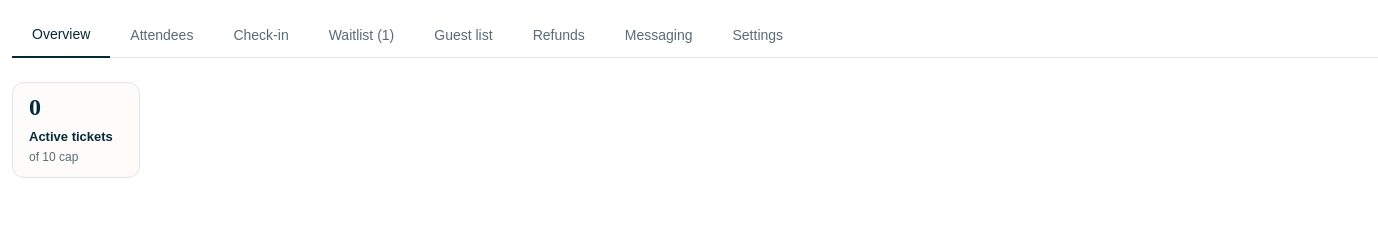
Test: ManageEventTabs — Waitlist tab: Offer / Resend › a failed offer shows the error inline and reverts the button to Offer
What coordinates should you click on to do the following:
click the button "Waitlist (1)"
I would click on:
 (362, 34)
Its box is [309, 12, 414, 57].
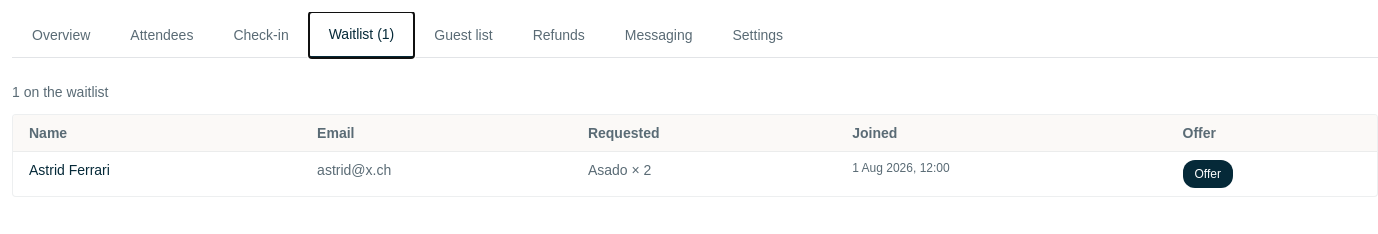
What coordinates should you click on to do the following:
click the button "Offer"
I would click on:
 (1208, 174)
Its box is [1182, 160, 1233, 188].
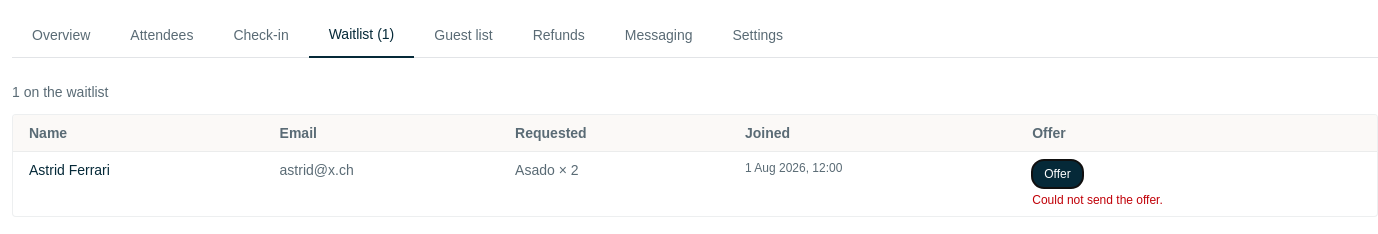
Result: the button "Offer" is shown at [1032, 160, 1083, 188]
Result: the text "Could not send the offer." is shown at [1032, 193, 1163, 207]
